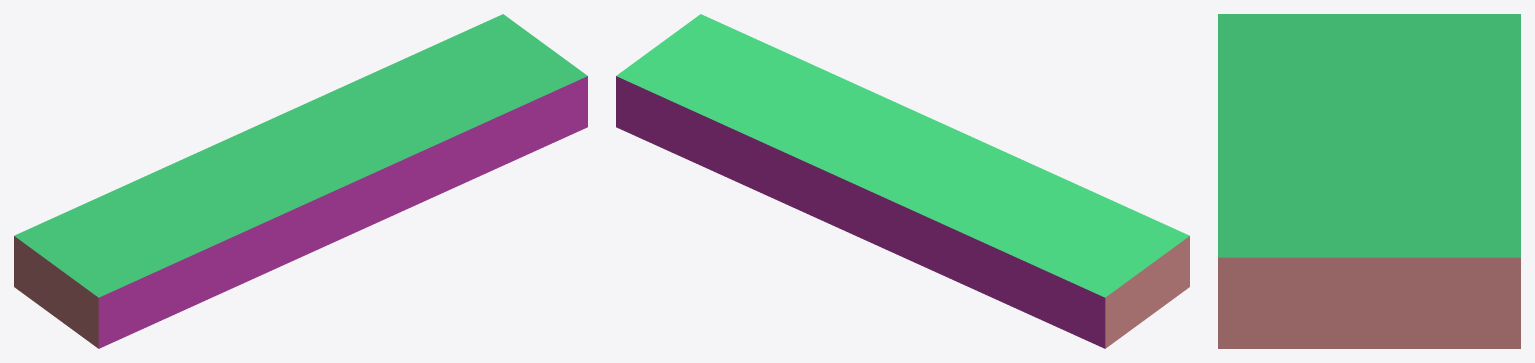
Rendered from floor r2.FBX.
3 renders of one model, left to right at view 1: azimuth 30°, elevation 25°; view 2: azimuth 150°, elevation 25°; view 3: azimuth 270°, elevation 25°, orthographic. The views are drawn at different scales.
Visible parts, largest first — view 1: floor r2; view 2: floor r2; view 3: floor r2.
Part boxes in pixels (x1,y1,x2,y2): floor r2: (14,14,587,348); floor r2: (616,14,1189,348); floor r2: (1218,14,1520,348).
Size of the model in its own units: 0.508 by 0.1524 by 0.1524.
